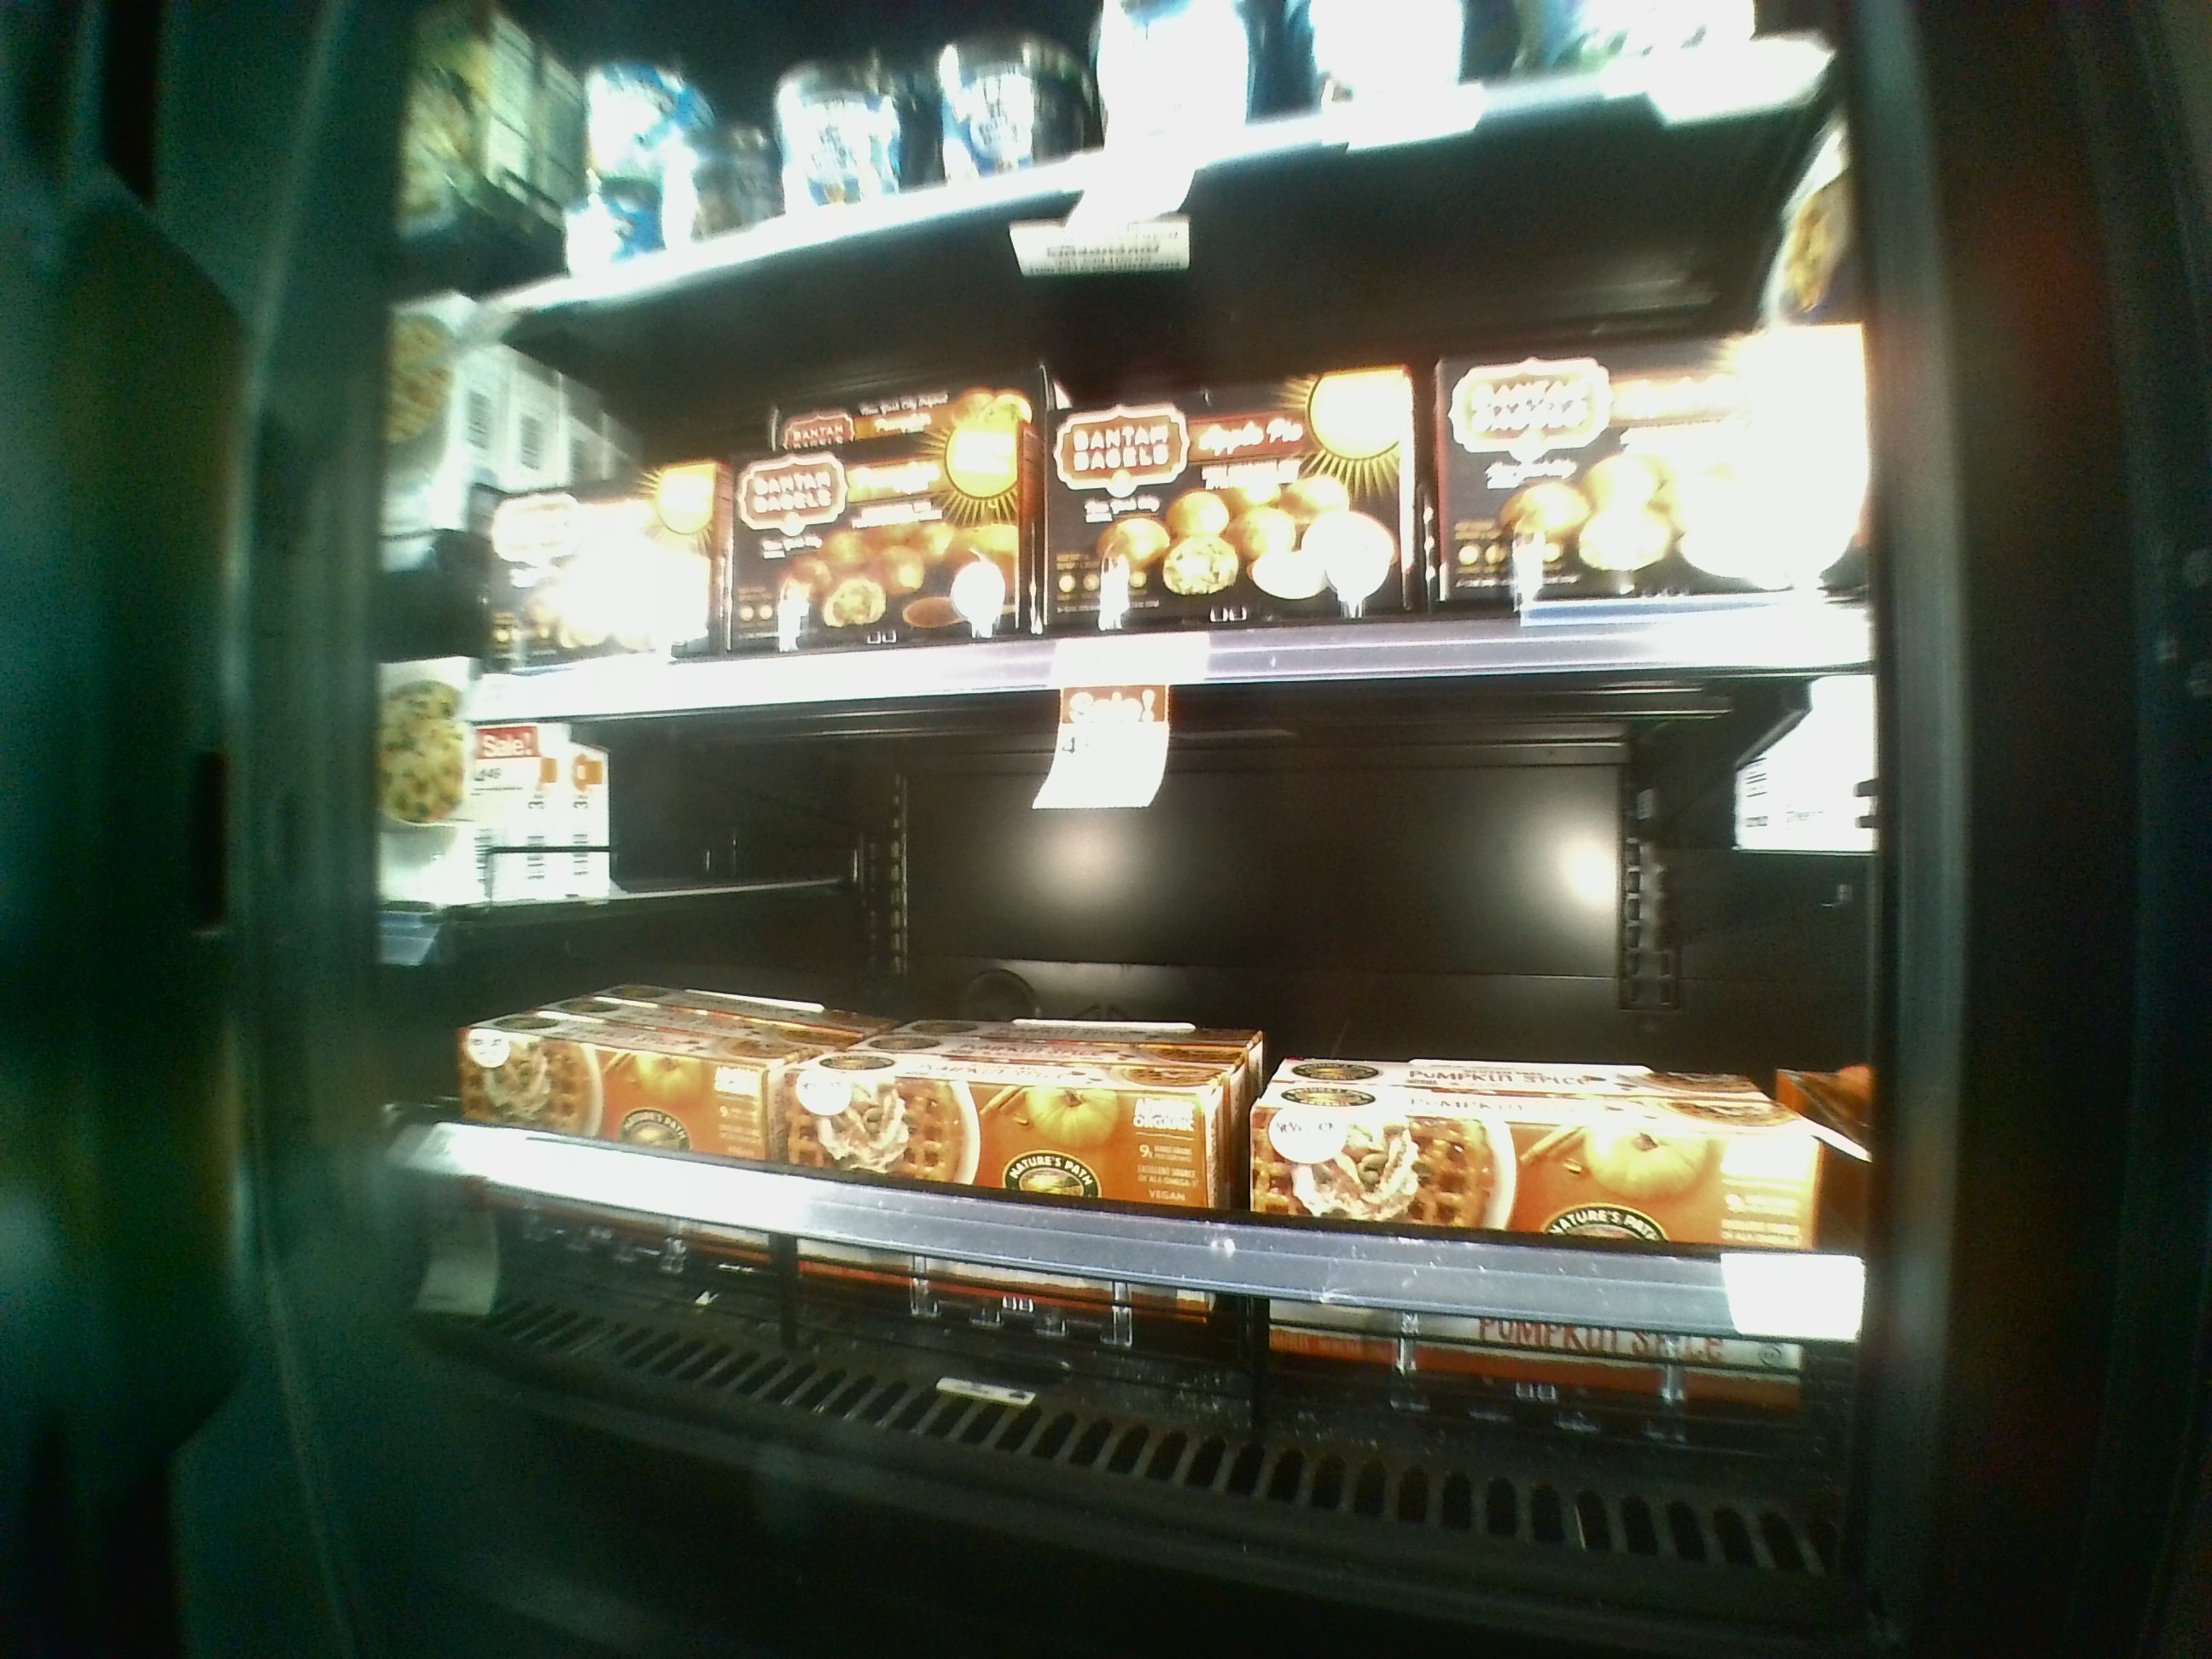shelf: (460, 650, 1881, 1561), (474, 261, 1876, 674)
